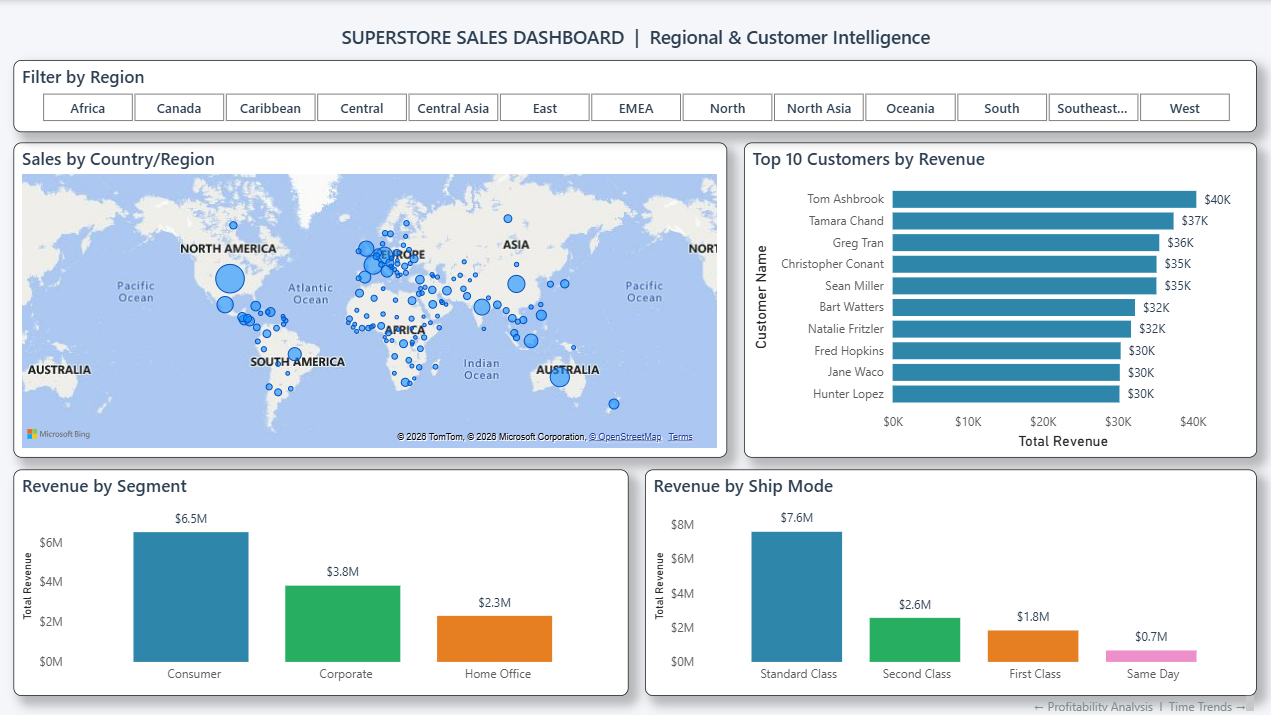

The dashboard page shown, as its layout file describes it:
{"tool":"powerbi","page":{"name":"Regional and Customer Intelligence","canvas":[1280,720],"ordinal":2},"visuals":[{"type":"map","title":"Sales by Country/Region","fields":{"Size":["_DAXMeasures.Total Revenue"],"Category":["Orders.Country"]},"box":[14.2,143.7,718.4,317.4],"z":0},{"type":"clusteredBarChart","title":"Top 10 Customers by Revenue","fields":{"Category":["Orders.Customer Name"],"Y":["_DAXMeasures.Total Revenue"]},"box":[749.2,143.5,516.6,317.2],"z":1000},{"type":"clusteredColumnChart","title":"Revenue by Segment","fields":{"Category":["Orders.Segment"],"Y":["_DAXMeasures.Total Revenue"]},"box":[13.6,472.8,619.3,228.1],"z":2000},{"type":"clusteredColumnChart","title":"Revenue by Ship Mode","fields":{"Category":["Orders.Ship Mode"],"Y":["_DAXMeasures.Total Revenue"]},"box":[649.5,472.8,616.3,228.1],"z":3000},{"type":"slicer","title":"Filter by Region","fields":{"Values":["Orders.Region"]},"box":[13.6,60.4,1252.2,72.5],"z":4000},{"type":"textbox","box":[0,0,1280.4,73.2],"z":5000},{"type":"textbox","box":[960.7,686.6,307,33.4],"z":6000}]}

Visuals, with their boxes in screenshot pixels (x1, y1, x2, y2), scaled from the page's 1280x720 canvas onto the 1271x715 screenshot:
"Sales by Country/Region" map: [left=14, top=143, right=727, bottom=458]
"Top 10 Customers by Revenue" clusteredBarChart: [left=744, top=143, right=1257, bottom=458]
"Revenue by Segment" clusteredColumnChart: [left=14, top=470, right=628, bottom=696]
"Revenue by Ship Mode" clusteredColumnChart: [left=645, top=470, right=1257, bottom=696]
"Filter by Region" slicer: [left=14, top=60, right=1257, bottom=132]
textbox: [left=0, top=0, right=1270, bottom=73]
textbox: [left=954, top=682, right=1259, bottom=714]
